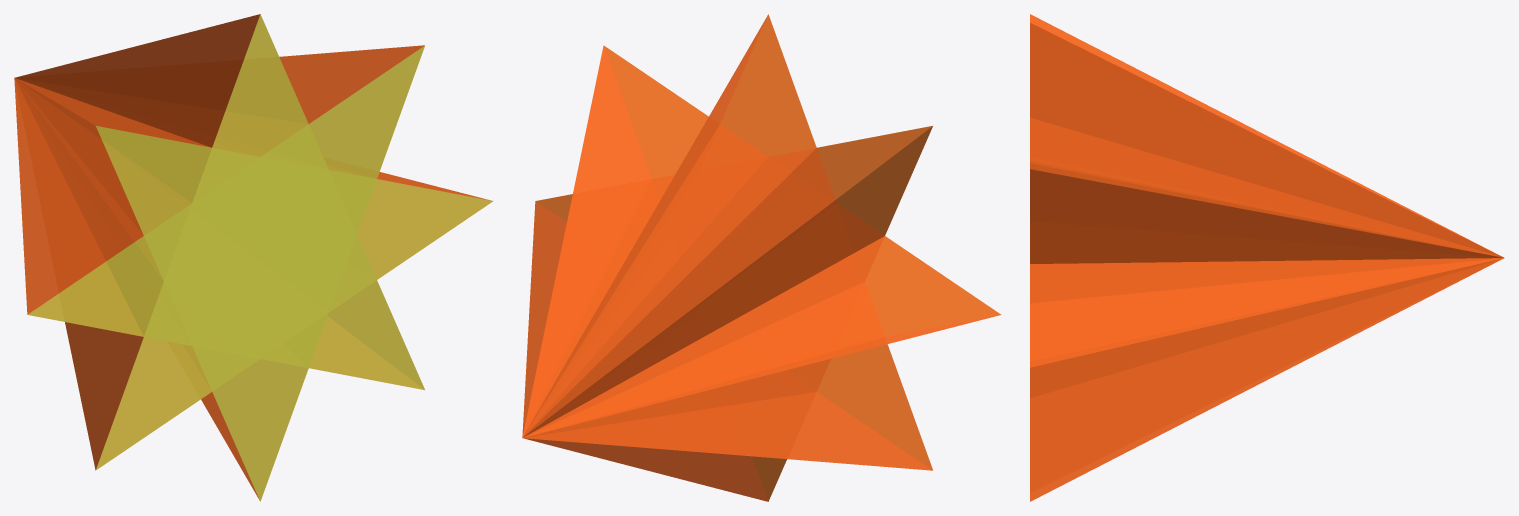
File: OctagrammicPyramid.obj
3 views of the same model, side by side, from view 1: azimuth 30°, elevation 25°; view 2: azimuth 150°, elevation 25°; view 3: azimuth 270°, elevation 25° (orthographic). The views are drawn at different scales.
Bounding box in the file's own units: 2.83 × 2.83 × 2.59.
